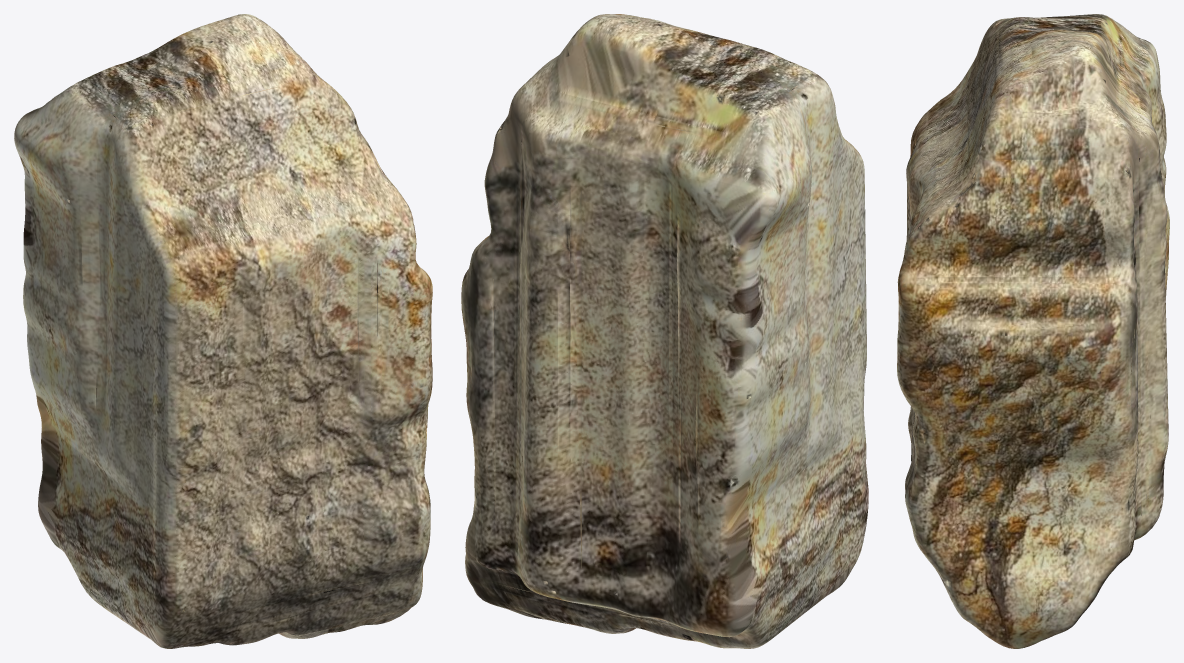
The model's file is 05oclock.glb.
3 renders of one model, left to right at view 1: azimuth 30°, elevation 25°; view 2: azimuth 150°, elevation 25°; view 3: azimuth 270°, elevation 25°, orthographic. The views are drawn at different scales.
Parts seen in each view (by area): view 1: Rock; view 2: Rock; view 3: Rock.
Boxes of the visible parts, box(x1,y1,x2,y2) form: Rock: box(14, 14, 432, 648); Rock: box(461, 14, 868, 648); Rock: box(897, 14, 1169, 648).
Size of the model in its own units: 0.5993 by 1.07 by 0.4741.
Materials: 1 (1 with a texture image).
